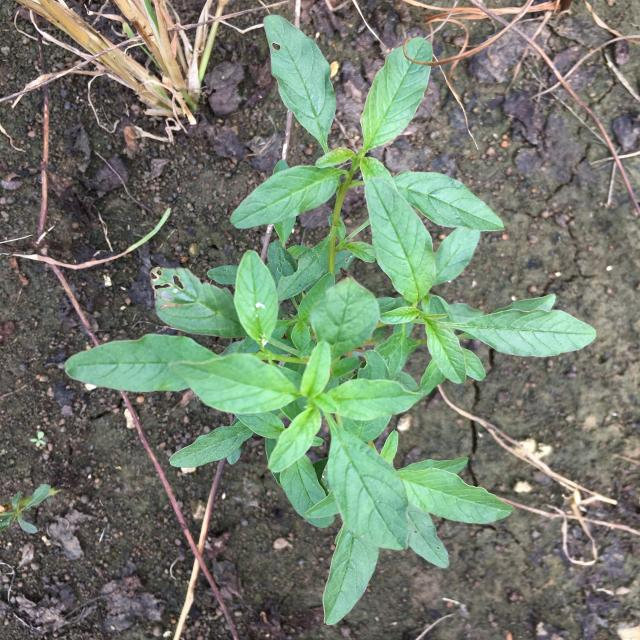Waterhemp: (65, 15, 597, 625)
